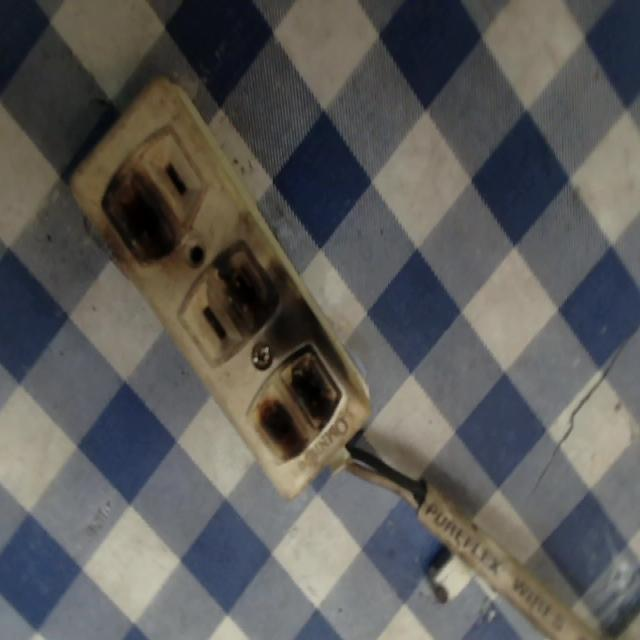-: (242, 341, 347, 475), (95, 165, 182, 278), (213, 232, 290, 341)
